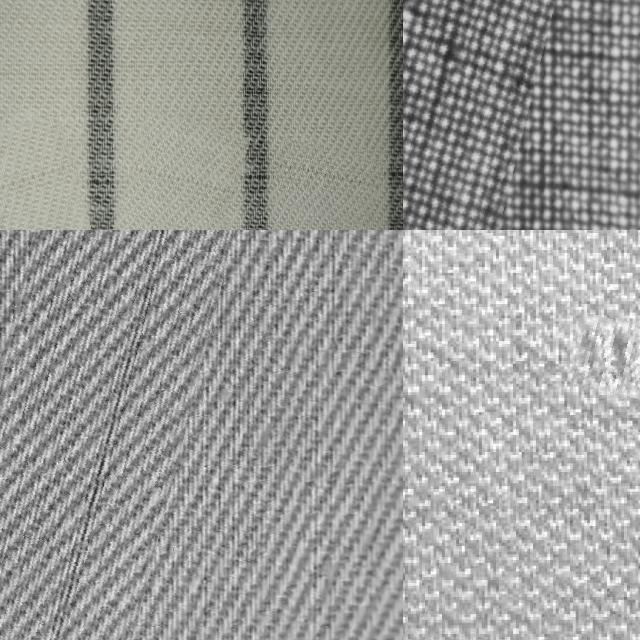other: (570, 317, 640, 401)
stains: (0, 230, 210, 640), (403, 0, 574, 230), (118, 114, 242, 230), (0, 121, 85, 230), (272, 143, 382, 222)
